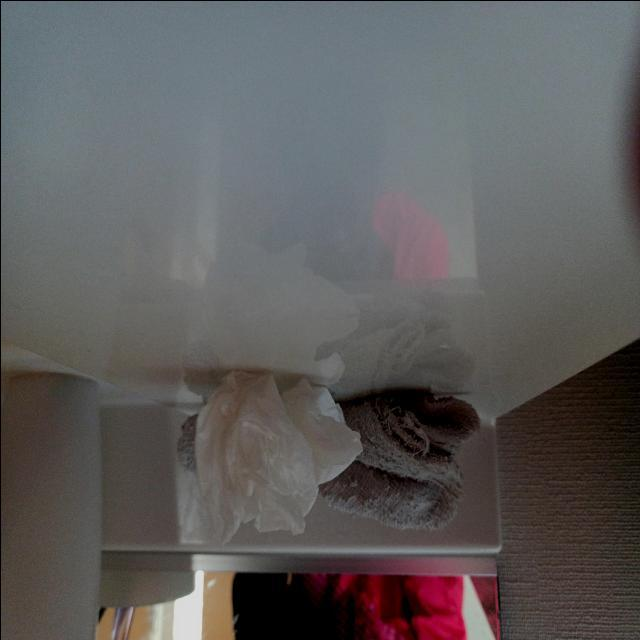Paper: (179, 363, 346, 548)
